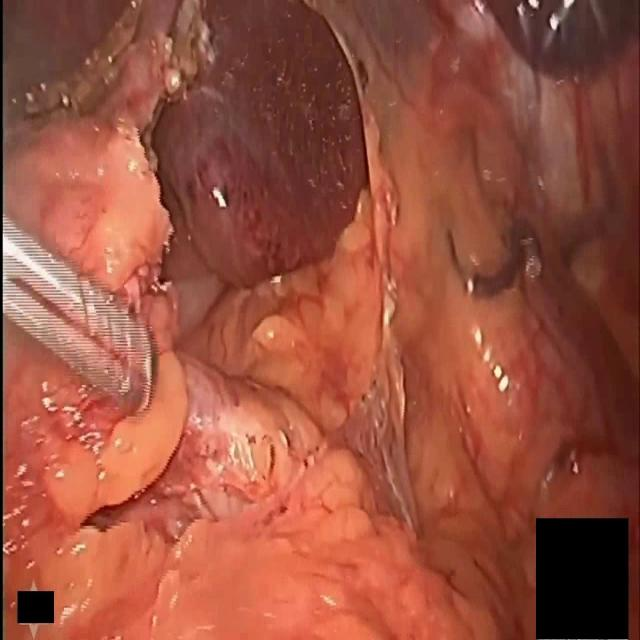surgical-area: (2, 1, 640, 639)
surgical-tool: (2, 216, 153, 421)
